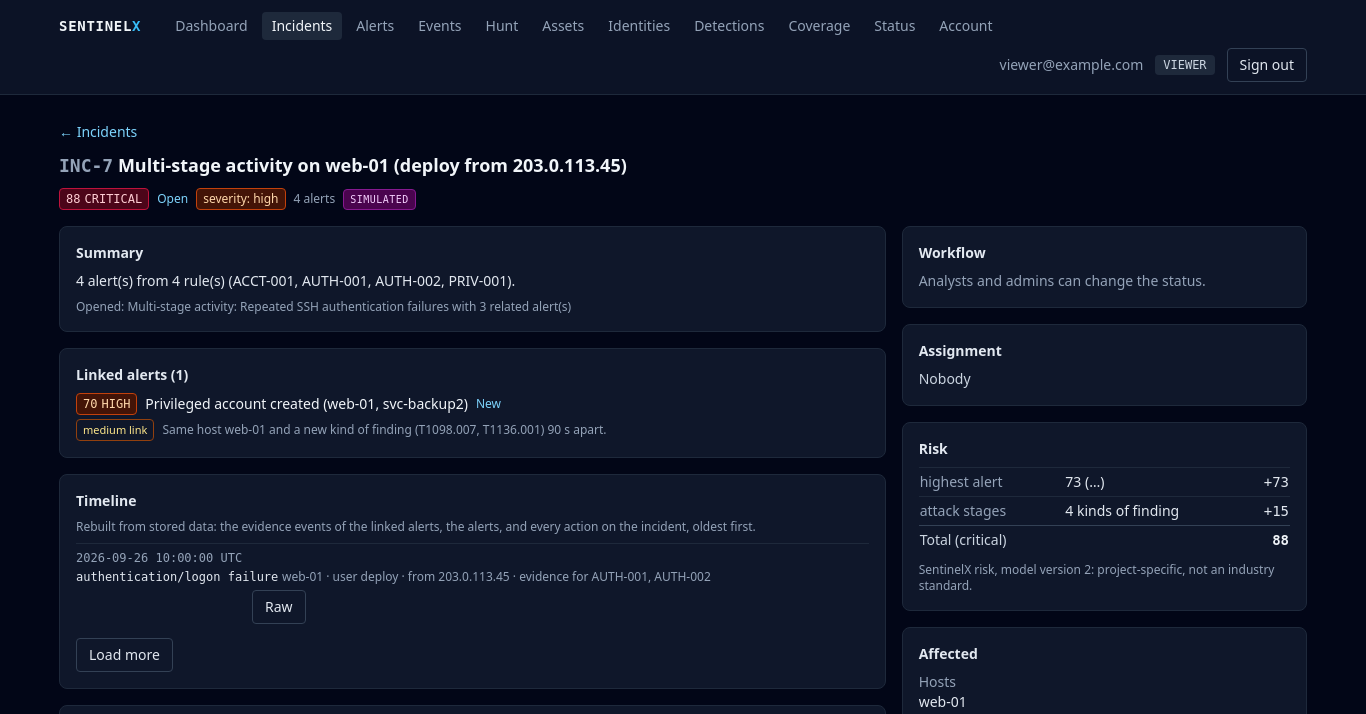
Incident workspace › pages the timeline and shows raw evidence as text only
Click the button "Load more" at (124, 655), box [76,638,173,672]
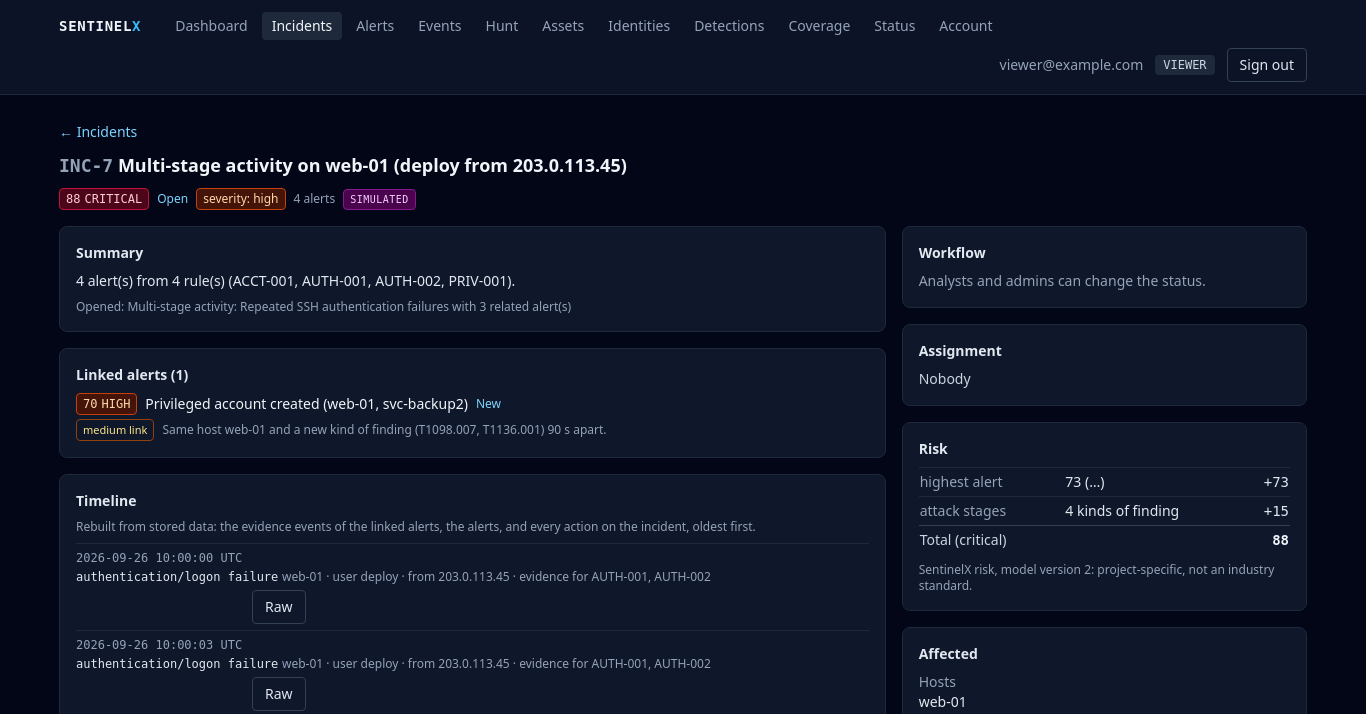
Click the button "Raw" below "2026-09-26 10:00:00 UTC" at (279, 607), box [252,590,306,624]
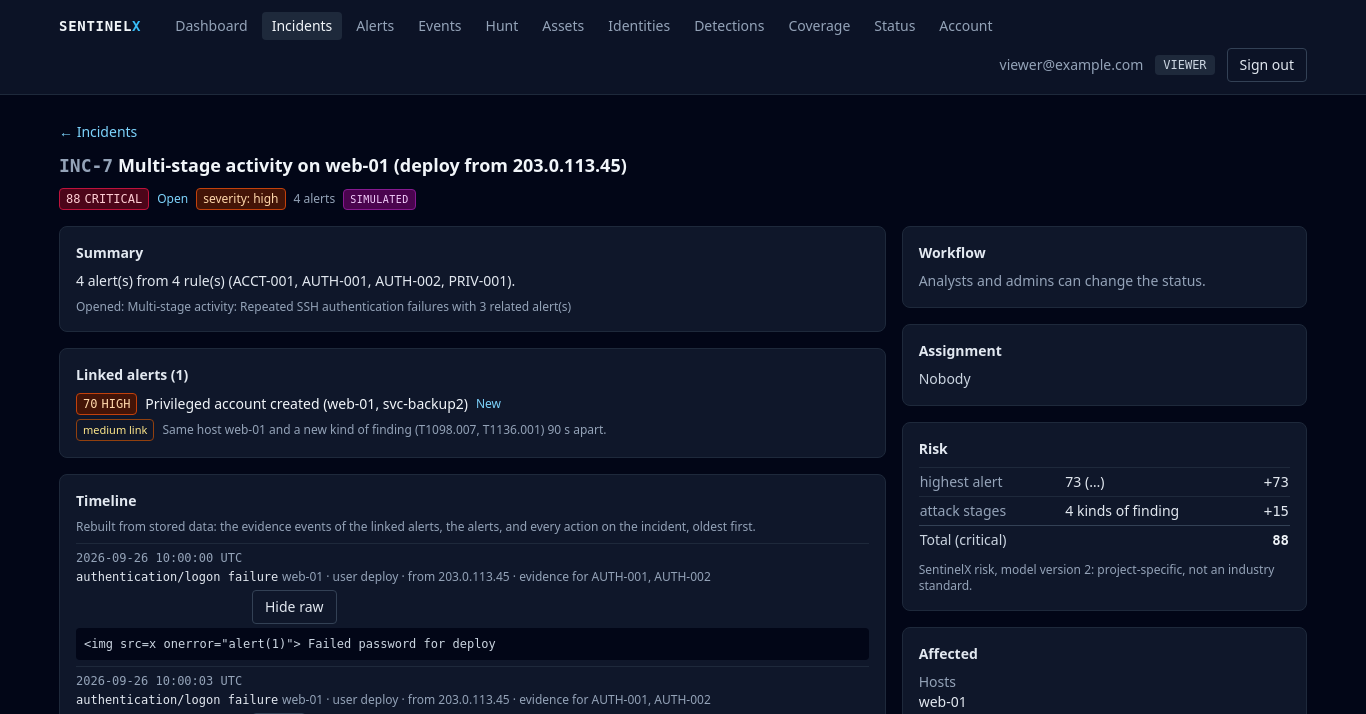
Expected: the text "<img src=x onerror=\"alert(1)\"> Failed password for deploy" is shown, [76,628,869,660]
